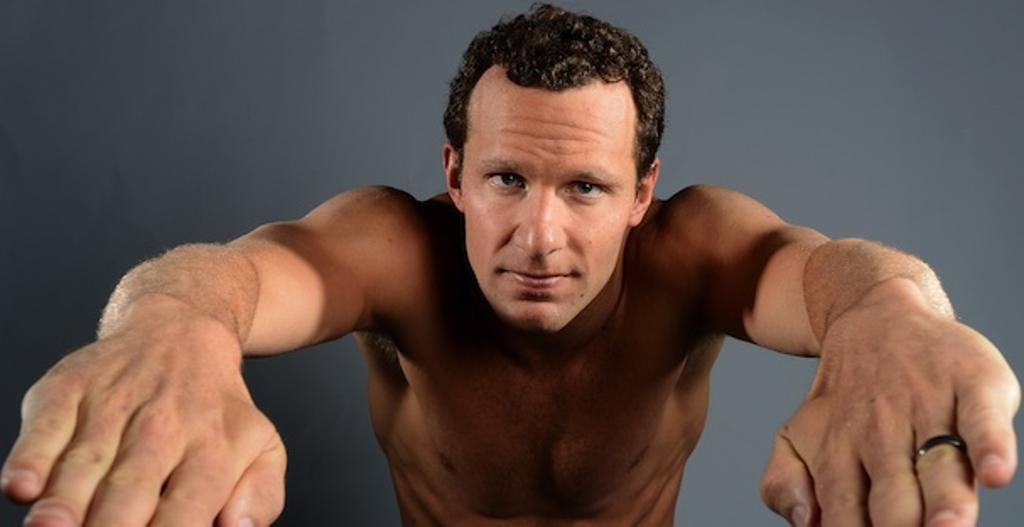face: (463, 103, 631, 331)
